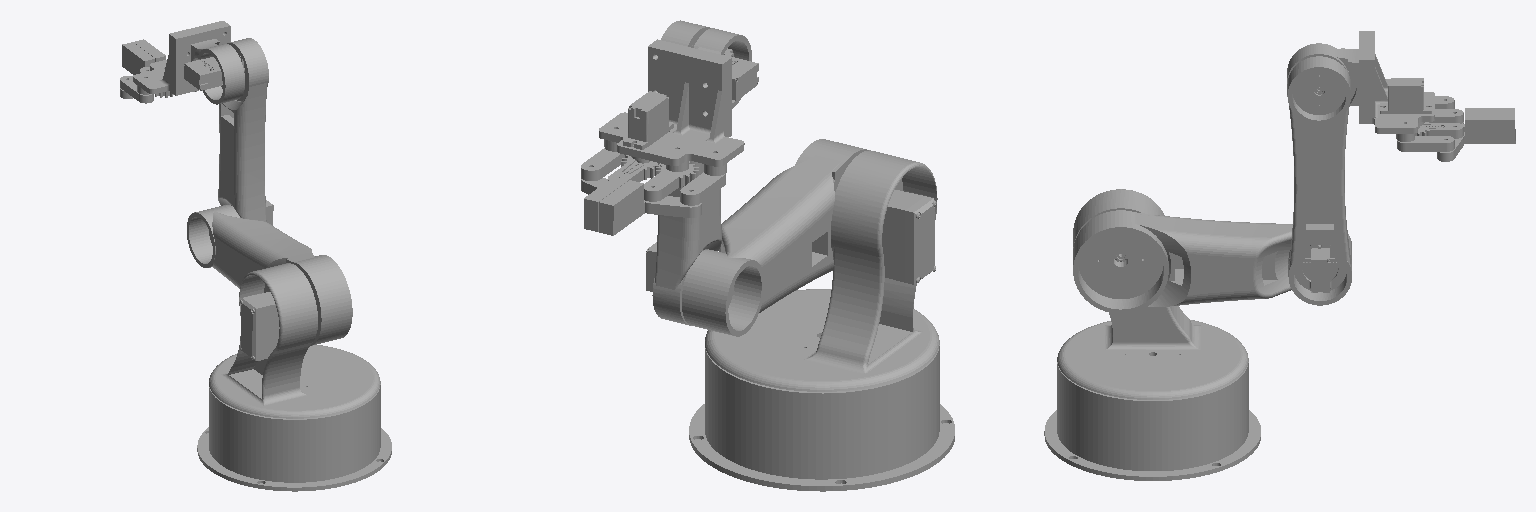
URDF robot description (Robot_Arm):
<?xml version='1.0' encoding='utf-8'?>
<robot name="Robot_Arm">
  <material name="silver">
    <color rgba="0.700 0.700 0.700 1.000" />
  </material>
  <link name="base_link">
    <inertial>
      <origin rpy="0 0 0" xyz="0.000619 0.000000 0.018717" />
      <mass value="1.114575279513355" />
      <inertia ixx="1.6127e-03" ixy="2.0748e-12" ixz="-1.0808e-05" iyy="2.0397e-03" iyz="1.2818e-12" izz="3.0906e-03" />
    </inertial>
    <visual>
      <origin rpy="0 0 0" xyz="0 0 0" />
      <geometry>
        <mesh filename="package://robotic_arm_pjbl_description/meshes/base_link.stl" scale="0.001 0.001 0.001" />
      </geometry>
      <material name="silver" />
    </visual>
    <collision>
      <origin rpy="0 0 0" xyz="0 0 0" />
      <geometry>
        <mesh filename="package://robotic_arm_pjbl_description/meshes/base_link.stl" scale="0.001 0.001 0.001" />
      </geometry>
    </collision>
  </link>
  <link name="mg996R_v2_v7_1">
    <inertial>
      <origin rpy="0 0 0" xyz="-0.024374 -0.005000 -0.008802" />
      <mass value="0.24550059914585104" />
      <inertia ixx="3.7764e-05" ixy="-3.7463e-10" ixz="-5.9967e-07" iyy="6.3908e-05" iyz="1.5918e-10" izz="4.2364e-05" />
    </inertial>
    <visual>
      <origin rpy="0 0 0" xyz="-0.0145 -0.005 -0.035" />
      <geometry>
        <mesh filename="package://robotic_arm_pjbl_description/meshes/mg996R_v2_v7_1.stl" scale="0.001 0.001 0.001" />
      </geometry>
      <material name="silver" />
    </visual>
    <collision>
      <origin rpy="0 0 0" xyz="-0.0145 -0.005 -0.035" />
      <geometry>
        <mesh filename="package://robotic_arm_pjbl_description/meshes/mg996R_v2_v7_1.stl" scale="0.001 0.001 0.001" />
      </geometry>
    </collision>
  </link>
  <link name="mg996_arm_2pad_v1__1__1">
    <inertial>
      <origin rpy="0 0 0" xyz="0.000000 0.000006 0.000273" />
      <mass value="0.006005329915614658" />
      <inertia ixx="5.5260e-07" ixy="1.9079e-15" ixz="6.4677e-16" iyy="4.5595e-08" iyz="1.4501e-15" izz="5.7984e-07" />
    </inertial>
    <visual>
      <origin rpy="0 0 0" xyz="-0.0 -0.0 -0.0505" />
      <geometry>
        <mesh filename="package://robotic_arm_pjbl_description/meshes/mg996_arm_2pad_v1__1__1.stl" scale="0.001 0.001 0.001" />
      </geometry>
      <material name="silver" />
    </visual>
    <collision>
      <origin rpy="0 0 0" xyz="-0.0 -0.0 -0.0505" />
      <geometry>
        <mesh filename="package://robotic_arm_pjbl_description/meshes/mg996_arm_2pad_v1__1__1.stl" scale="0.001 0.001 0.001" />
      </geometry>
    </collision>
  </link>
  <link name="Tutup__Base_v11_1">
    <inertial>
      <origin rpy="0 0 0" xyz="-0.009973 -0.007147 0.027090" />
      <mass value="0.7070663239380128" />
      <inertia ixx="1.1866e-03" ixy="-4.0674e-05" ixz="1.4969e-04" iyy="1.1033e-03" iyz="1.9334e-04" izz="8.0066e-04" />
    </inertial>
    <visual>
      <origin rpy="0 0 0" xyz="-0.0 -6e-06 -0.0532" />
      <geometry>
        <mesh filename="package://robotic_arm_pjbl_description/meshes/Tutup__Base_v11_1.stl" scale="0.001 0.001 0.001" />
      </geometry>
      <material name="silver" />
    </visual>
    <collision>
      <origin rpy="0 0 0" xyz="-0.0 -6e-06 -0.0532" />
      <geometry>
        <mesh filename="package://robotic_arm_pjbl_description/meshes/Tutup__Base_v11_1.stl" scale="0.001 0.001 0.001" />
      </geometry>
    </collision>
  </link>
  <link name="mg996_arm_2pad_v1_1">
    <inertial>
      <origin rpy="0 0 0" xyz="-0.000221 0.000163 0.000000" />
      <mass value="0.006005329915614658" />
      <inertia ixx="5.7984e-07" ixy="-1.4192e-15" ixz="-2.1369e-15" iyy="4.5609e-08" iyz="-2.6547e-09" izz="5.5259e-07" />
    </inertial>
    <visual>
      <origin rpy="0 0 0" xyz="0.006406 0.020205 -0.122346" />
      <geometry>
        <mesh filename="package://robotic_arm_pjbl_description/meshes/mg996_arm_2pad_v1_1.stl" scale="0.001 0.001 0.001" />
      </geometry>
      <material name="silver" />
    </visual>
    <collision>
      <origin rpy="0 0 0" xyz="0.006406 0.020205 -0.122346" />
      <geometry>
        <mesh filename="package://robotic_arm_pjbl_description/meshes/mg996_arm_2pad_v1_1.stl" scale="0.001 0.001 0.001" />
      </geometry>
    </collision>
  </link>
  <link name="Link_2_v15_1">
    <inertial>
      <origin rpy="0 0 0" xyz="0.005973 0.057708 0.000453" />
      <mass value="1.1593082559359793" />
      <inertia ixx="2.0213e-03" ixy="3.6090e-05" ixz="6.7725e-07" iyy="3.4611e-04" iyz="-5.9692e-06" izz="1.8724e-03" />
    </inertial>
    <visual>
      <origin rpy="0 0 0" xyz="0.003707 0.020139 -0.122346" />
      <geometry>
        <mesh filename="package://robotic_arm_pjbl_description/meshes/Link_2_v15_1.stl" scale="0.001 0.001 0.001" />
      </geometry>
      <material name="silver" />
    </visual>
    <collision>
      <origin rpy="0 0 0" xyz="0.003707 0.020139 -0.122346" />
      <geometry>
        <mesh filename="package://robotic_arm_pjbl_description/meshes/Link_2_v15_1.stl" scale="0.001 0.001 0.001" />
      </geometry>
    </collision>
  </link>
  <link name="MG90S_Servo_Horn__2_spork__v1_1">
    <inertial>
      <origin rpy="0 0 0" xyz="0.003641 0.020481 -0.068052" />
      <mass value="0.0023293743845412967" />
      <inertia ixx="1.4281e-07" ixy="3.7628e-15" ixz="-1.8397e-15" iyy="8.2114e-09" iyz="-6.8679e-10" izz="1.3937e-07" />
    </inertial>
    <visual>
      <origin rpy="0 0 0" xyz="-0.002729 -0.084475 -0.191053" />
      <geometry>
        <mesh filename="package://robotic_arm_pjbl_description/meshes/MG90S_Servo_Horn__2_spork__v1_1.stl" scale="0.001 0.001 0.001" />
      </geometry>
      <material name="silver" />
    </visual>
    <collision>
      <origin rpy="0 0 0" xyz="-0.002729 -0.084475 -0.191053" />
      <geometry>
        <mesh filename="package://robotic_arm_pjbl_description/meshes/MG90S_Servo_Horn__2_spork__v1_1.stl" scale="0.001 0.001 0.001" />
      </geometry>
    </collision>
  </link>
  <link name="MG90S_Servo_Horn__2_spork__v1__1__1">
    <inertial>
      <origin rpy="0 0 0" xyz="0.004089 -0.098038 0.098446" />
      <mass value="0.0023293743845412967" />
      <inertia ixx="1.4281e-07" ixy="7.8980e-16" ixz="1.1864e-15" iyy="1.3937e-07" iyz="6.8679e-10" izz="8.2114e-09" />
    </inertial>
    <visual>
      <origin rpy="0 0 0" xyz="-0.012981 -0.202346 -0.149323" />
      <geometry>
        <mesh filename="package://robotic_arm_pjbl_description/meshes/MG90S_Servo_Horn__2_spork__v1__1__1.stl" scale="0.001 0.001 0.001" />
      </geometry>
      <material name="silver" />
    </visual>
    <collision>
      <origin rpy="0 0 0" xyz="-0.012981 -0.202346 -0.149323" />
      <geometry>
        <mesh filename="package://robotic_arm_pjbl_description/meshes/MG90S_Servo_Horn__2_spork__v1__1__1.stl" scale="0.001 0.001 0.001" />
      </geometry>
    </collision>
  </link>
  <link name="Gripper_Paralel_SG90_M5_v5_1">
    <inertial>
      <origin rpy="0 0 0" xyz="0.029393 -0.083535 0.069537" />
      <mass value="0.18310530252689874" />
      <inertia ixx="5.7390e-05" ixy="-3.7889e-06" ixz="-5.3392e-07" iyy="7.5492e-05" iyz="1.5480e-05" izz="7.4260e-05" />
    </inertial>
    <visual>
      <origin rpy="0 0 0" xyz="0.027008 -0.232391 -0.168029" />
      <geometry>
        <mesh filename="package://robotic_arm_pjbl_description/meshes/Gripper_Paralel_SG90_M5_v5_1.stl" scale="0.001 0.001 0.001" />
      </geometry>
      <material name="silver" />
    </visual>
    <collision>
      <origin rpy="0 0 0" xyz="0.027008 -0.232391 -0.168029" />
      <geometry>
        <mesh filename="package://robotic_arm_pjbl_description/meshes/Gripper_Paralel_SG90_M5_v5_1.stl" scale="0.001 0.001 0.001" />
      </geometry>
    </collision>
  </link>
  <link name="link_3_v8_1">
    <inertial>
      <origin rpy="0 0 0" xyz="-0.000346 0.027380 -0.007778" />
      <mass value="0.5013830172546899" />
      <inertia ixx="8.1084e-04" ixy="-3.0076e-08" ixz="-8.6448e-06" iyy="7.6865e-04" iyz="3.5065e-06" izz="7.9942e-05" />
    </inertial>
    <visual>
      <origin rpy="0 0 0" xyz="-0.018357 -0.077013 -0.19383" />
      <geometry>
        <mesh filename="package://robotic_arm_pjbl_description/meshes/link_3_v8_1.stl" scale="0.001 0.001 0.001" />
      </geometry>
      <material name="silver" />
    </visual>
    <collision>
      <origin rpy="0 0 0" xyz="-0.018357 -0.077013 -0.19383" />
      <geometry>
        <mesh filename="package://robotic_arm_pjbl_description/meshes/link_3_v8_1.stl" scale="0.001 0.001 0.001" />
      </geometry>
    </collision>
  </link>
  <link name="Mounting_Gripper_v10_1">
    <inertial>
      <origin rpy="0 0 0" xyz="0.005278 -0.074495 0.097622" />
      <mass value="0.1387810088485666" />
      <inertia ixx="5.3073e-05" ixy="1.1204e-06" ixz="6.6532e-08" iyy="3.2264e-05" iyz="-3.8630e-08" izz="4.3861e-05" />
    </inertial>
    <visual>
      <origin rpy="0 0 0" xyz="0.004351 -0.19365 -0.150243" />
      <geometry>
        <mesh filename="package://robotic_arm_pjbl_description/meshes/Mounting_Gripper_v10_1.stl" scale="0.001 0.001 0.001" />
      </geometry>
      <material name="silver" />
    </visual>
    <collision>
      <origin rpy="0 0 0" xyz="0.004351 -0.19365 -0.150243" />
      <geometry>
        <mesh filename="package://robotic_arm_pjbl_description/meshes/Mounting_Gripper_v10_1.stl" scale="0.001 0.001 0.001" />
      </geometry>
    </collision>
  </link>
  <link name="MG90S_v5_1">
    <inertial>
      <origin rpy="0 0 0" xyz="0.017835 -0.000089 0.004771" />
      <mass value="0.022767916386716793" />
      <inertia ixx="1.8048e-06" ixy="1.9830e-09" ixz="-2.2121e-07" iyy="3.1547e-06" iyz="-2.8523e-11" izz="2.1095e-06" />
    </inertial>
    <visual>
      <origin rpy="0 0 0" xyz="-0.007150 -0.105000 -0.123000" />
      <geometry>
        <mesh filename="package://robotic_arm_pjbl_description/meshes/MG90S_v5_1.stl" scale="0.001 0.001 0.001" />
      </geometry>
      <material name="silver" />
    </visual>
    <collision>
      <origin rpy="0 0 0" xyz="-0.007150 -0.105000 -0.123000" />
      <geometry>
        <mesh filename="package://robotic_arm_pjbl_description/meshes/MG90S_v5_1.stl" scale="0.001 0.001 0.001" />
      </geometry>
    </collision>
  </link>
  <link name="MG90S_v1_1">
    <inertial>
      <origin rpy="0 0 0" xyz="-0.020595 0.004779 -0.000026" />
      <mass value="0.02276801022285205" />
      <inertia ixx="1.8049e-06" ixy="2.2122e-07" ixz="3.3356e-10" iyy="2.1096e-06" iyz="-1.0973e-08" izz="3.1546e-06" />
    </inertial>
    <visual>
      <origin rpy="0 0 0" xyz="-0.016250 -0.104300 -0.247800" />
      <geometry>
        <mesh filename="package://robotic_arm_pjbl_description/meshes/MG90S_v1_1.stl" scale="0.001 0.001 0.001" />
      </geometry>
      <material name="silver" />
    </visual>
    <collision>
      <origin rpy="0 0 0" xyz="-0.016250 -0.104300 -0.247800" />
      <geometry>
        <mesh filename="package://robotic_arm_pjbl_description/meshes/MG90S_v1_1.stl" scale="0.001 0.001 0.001" />
      </geometry>
    </collision>
  </link>
  <link name="mg996R_v2_v7__1__1">
    <inertial>
      <origin rpy="0 0 0" xyz="-0.011579 -0.004386 -0.024399" />
      <mass value="0.24550059914585104" />
      <inertia ixx="4.2364e-05" ixy="2.9807e-09" ixz="-5.9966e-07" iyy="6.3907e-05" iyz="1.3726e-07" izz="3.7765e-05" />
    </inertial>
    <visual>
      <origin rpy="0 0 0" xyz="0.019623 0.015604 -0.136878" />
      <geometry>
        <mesh filename="package://robotic_arm_pjbl_description/meshes/mg996R_v2_v7__1__1.stl" scale="0.001 0.001 0.001" />
      </geometry>
      <material name="silver" />
    </visual>
    <collision>
      <origin rpy="0 0 0" xyz="0.019623 0.015604 -0.136878" />
      <geometry>
        <mesh filename="package://robotic_arm_pjbl_description/meshes/mg996R_v2_v7__1__1.stl" scale="0.001 0.001 0.001" />
      </geometry>
    </collision>
  </link>
  <link name="gripper_gear_a_1">
    <inertial>
      <origin rpy="0 0 0" xyz="0.000022 0.008095 -0.001013" />
      <mass value="0.023262242930303698" />
      <inertia ixx="2.8852e-06" ixy="-9.5985e-09" ixz="4.2138e-11" iyy="5.2168e-07" iyz="1.3670e-08" izz="3.2490e-06" />
    </inertial>
    <visual>
      <origin rpy="0 0 0" xyz="-0.010800 -0.164110 -0.216730" />
      <geometry>
        <mesh filename="package://robotic_arm_pjbl_description/meshes/gripper_gear_a_1.stl" scale="0.001 0.001 0.001" />
      </geometry>
      <material name="silver" />
    </visual>
    <collision>
      <origin rpy="0 0 0" xyz="-0.010800 -0.164110 -0.216730" />
      <geometry>
        <mesh filename="package://robotic_arm_pjbl_description/meshes/gripper_gear_a_1.stl" scale="0.001 0.001 0.001" />
      </geometry>
    </collision>
  </link>
  <link name="gripper_gear_b_1">
    <inertial>
      <origin rpy="0 0 0" xyz="-0.000044 0.008349 -0.001099" />
      <mass value="0.02378380547257021" />
      <inertia ixx="2.9072e-06" ixy="9.9205e-09" ixz="5.1941e-11" iyy="5.2436e-07" iyz="-1.4474e-08" izz="3.2887e-06" />
    </inertial>
    <visual>
      <origin rpy="0 0 0" xyz="0.009400 -0.164110 -0.216730" />
      <geometry>
        <mesh filename="package://robotic_arm_pjbl_description/meshes/gripper_gear_b_1.stl" scale="0.001 0.001 0.001" />
      </geometry>
      <material name="silver" />
    </visual>
    <collision>
      <origin rpy="0 0 0" xyz="0.009400 -0.164110 -0.216730" />
      <geometry>
        <mesh filename="package://robotic_arm_pjbl_description/meshes/gripper_gear_b_1.stl" scale="0.001 0.001 0.001" />
      </geometry>
    </collision>
  </link>
  <link name="gripper_link_left_1">
    <inertial>
      <origin rpy="0 0 0" xyz="-0.000001 0.012772 -0.001396" />
      <mass value="0.016717941483359883" />
      <inertia ixx="1.6063e-06" ixy="-5.7333e-09" ixz="-3.0020e-11" iyy="2.1413e-07" iyz="-7.8850e-09" izz="1.7200e-06" />
    </inertial>
    <visual>
      <origin rpy="0 0 0" xyz="-0.030030 -0.158480 -0.217020" />
      <geometry>
        <mesh filename="package://robotic_arm_pjbl_description/meshes/gripper_link_left_1.stl" scale="0.001 0.001 0.001" />
      </geometry>
      <material name="silver" />
    </visual>
    <collision>
      <origin rpy="0 0 0" xyz="-0.030030 -0.158480 -0.217020" />
      <geometry>
        <mesh filename="package://robotic_arm_pjbl_description/meshes/gripper_link_left_1.stl" scale="0.001 0.001 0.001" />
      </geometry>
    </collision>
  </link>
  <link name="gripper_link_right_1">
    <inertial>
      <origin rpy="0 0 0" xyz="0.000001 0.012782 -0.001396" />
      <mass value="0.016717941483359845" />
      <inertia ixx="1.6063e-06" ixy="5.7334e-09" ixz="3.0035e-11" iyy="2.1413e-07" iyz="-7.8850e-09" izz="1.7200e-06" />
    </inertial>
    <visual>
      <origin rpy="0 0 0" xyz="0.028630 -0.158470 -0.217020" />
      <geometry>
        <mesh filename="package://robotic_arm_pjbl_description/meshes/gripper_link_right_1.stl" scale="0.001 0.001 0.001" />
      </geometry>
      <material name="silver" />
    </visual>
    <collision>
      <origin rpy="0 0 0" xyz="0.028630 -0.158470 -0.217020" />
      <geometry>
        <mesh filename="package://robotic_arm_pjbl_description/meshes/gripper_link_right_1.stl" scale="0.001 0.001 0.001" />
      </geometry>
    </collision>
  </link>
  <link name="gripper_finger_left_1">
    <inertial>
      <origin rpy="0 0 0" xyz="-0.001489 0.014975 -0.001265" />
      <mass value="0.051741877862863876" />
      <inertia ixx="1.1089e-05" ixy="4.0169e-06" ixz="8.5147e-07" iyy="4.7434e-06" iyz="-1.5048e-06" izz="1.3300e-05" />
    </inertial>
    <visual>
      <origin rpy="0 0 0" xyz="-0.010800 -0.189280 -0.213950" />
      <geometry>
        <mesh filename="package://robotic_arm_pjbl_description/meshes/gripper_finger_left_1.stl" scale="0.001 0.001 0.001" />
      </geometry>
      <material name="silver" />
    </visual>
    <collision>
      <origin rpy="0 0 0" xyz="-0.010800 -0.189280 -0.213950" />
      <geometry>
        <mesh filename="package://robotic_arm_pjbl_description/meshes/gripper_finger_left_1.stl" scale="0.001 0.001 0.001" />
      </geometry>
    </collision>
  </link>
  <link name="gripper_finger_right_1">
    <inertial>
      <origin rpy="0 0 0" xyz="0.001489 0.014975 -0.001255" />
      <mass value="0.05174187786286397" />
      <inertia ixx="1.1089e-05" ixy="-4.0169e-06" ixz="-8.5147e-07" iyy="4.7434e-06" iyz="-1.5048e-06" izz="1.3300e-05" />
    </inertial>
    <visual>
      <origin rpy="0 0 0" xyz="0.009400 -0.189280 -0.213940" />
      <geometry>
        <mesh filename="package://robotic_arm_pjbl_description/meshes/gripper_finger_right_1.stl" scale="0.001 0.001 0.001" />
      </geometry>
      <material name="silver" />
    </visual>
    <collision>
      <origin rpy="0 0 0" xyz="0.009400 -0.189280 -0.213940" />
      <geometry>
        <mesh filename="package://robotic_arm_pjbl_description/meshes/gripper_finger_right_1.stl" scale="0.001 0.001 0.001" />
      </geometry>
    </collision>
  </link>
  <joint name="base_to_servo1" type="fixed">
    <origin rpy="0 0 0" xyz="0.014500 0.005000 0.035000" />
    <parent link="base_link" />
    <child link="mg996R_v2_v7_1" />
  </joint>
  <joint name="base" type="revolute">
    <origin rpy="0 0 0" xyz="-0.014500 -0.005000 0.015500" />
    <parent link="mg996R_v2_v7_1" />
    <child link="mg996_arm_2pad_v1__1__1" />
    <axis xyz="0.0 0.0 1.0" />
    <limit effort="100" lower="0.0" upper="3.141593" velocity="100" />
  </joint>
  <joint name="arm1_to_tutup" type="fixed">
    <origin rpy="0 0 0" xyz="0.000000 0.000006 0.002700" />
    <parent link="mg996_arm_2pad_v1__1__1" />
    <child link="Tutup__Base_v11_1" />
  </joint>
  <joint name="shoulder" type="revolute">
    <origin rpy="0 0 0" xyz="0.013217 -0.004601 -0.014532" />
    <parent link="mg996R_v2_v7__1__1" />
    <child link="mg996_arm_2pad_v1_1" />
    <axis xyz="0.999699 0.024528 0.0" />
    <limit effort="100" lower="0.0" upper="3.141593" velocity="100" />
  </joint>
  <joint name="arm2_to_link2" type="fixed">
    <origin rpy="0 0 0" xyz="0.002699 0.000066 0.000000" />
    <parent link="mg996_arm_2pad_v1_1" />
    <child link="Link_2_v15_1" />
  </joint>
  <joint name="link2_to_horn1" type="fixed">
    <origin rpy="0 0 0" xyz="0.006436 0.104614 0.068707" />
    <parent link="Link_2_v15_1" />
    <child link="MG90S_Servo_Horn__2_spork__v1_1" />
  </joint>
  <joint name="link3_to_horn2" type="fixed">
    <origin rpy="0 0 0" xyz="-0.005376 0.125333 -0.044507" />
    <parent link="link_3_v8_1" />
    <child link="MG90S_Servo_Horn__2_spork__v1__1__1" />
  </joint>
  <joint name="mounting_to_gripper" type="fixed">
    <origin rpy="0 0 0" xyz="-0.022657 0.038741 0.017786" />
    <parent link="Mounting_Gripper_v10_1" />
    <child link="Gripper_Paralel_SG90_M5_v5_1" />
  </joint>
  <joint name="servo3_to_link3" type="fixed">
    <origin rpy="0 0 0" xyz="0.011207 -0.027987 0.070830" />
    <parent link="MG90S_v5_1" />
    <child link="link_3_v8_1" />
  </joint>
  <joint name="servo4_to_mounting" type="fixed">
    <origin rpy="0 0 0" xyz="-0.020601 0.089350 -0.097557" />
    <parent link="MG90S_v1_1" />
    <child link="Mounting_Gripper_v10_1" />
  </joint>
  <joint name="elbow" type="revolute">
    <origin rpy="0 0 0" xyz="0.004421 0.020525 -0.068053" />
    <parent link="MG90S_Servo_Horn__2_spork__v1_1" />
    <child link="MG90S_v5_1" />
    <axis xyz="-0.999699 -0.024528 0.0" />
    <limit effort="100" lower="0.0" upper="3.141593" velocity="100" />
  </joint>
  <joint name="wrist" type="revolute">
    <origin rpy="0 0 0" xyz="0.003269 -0.098046 0.098477" />
    <parent link="MG90S_Servo_Horn__2_spork__v1__1__1" />
    <child link="MG90S_v1_1" />
    <axis xyz="0.999699 0.024528 -0.0" />
    <limit effort="100" lower="0.0" upper="3.141593" velocity="100" />
  </joint>
  <joint name="tutup_to_servo2" type="fixed">
    <origin rpy="0 0 0" xyz="-0.019623 -0.015610 0.083678" />
    <parent link="Tutup__Base_v11_1" />
    <child link="mg996R_v2_v7__1__1" />
  </joint>
  <joint name="gripper_servo" type="revolute">
    <origin rpy="0 0 0" xyz="0.037808 -0.068281 0.048701" />
    <parent link="Gripper_Paralel_SG90_M5_v5_1" />
    <child link="gripper_gear_a_1" />
    <axis xyz="0.002699 -0.110002 -0.993928" />
    <limit effort="100" lower="0.0" upper="0.573515" velocity="100" />
  </joint>
  <joint name="gripper_gear_b" type="revolute">
    <origin rpy="0 0 0" xyz="0.017608 -0.068281 0.048701" />
    <parent link="Gripper_Paralel_SG90_M5_v5_1" />
    <child link="gripper_gear_b_1" />
    <axis xyz="-0.002699 0.110002 0.993928" />
    <limit effort="100" lower="0.0" upper="0.573515" velocity="100" />
  <mimic joint="gripper_servo" multiplier="1.0" offset="0" /></joint>
  <joint name="gripper_link_left" type="revolute">
    <origin rpy="0 0 0" xyz="0.057038 -0.073911 0.048991" />
    <parent link="Gripper_Paralel_SG90_M5_v5_1" />
    <child link="gripper_link_left_1" />
    <axis xyz="-0.002699 0.110002 0.993928" />
    <limit effort="100" lower="-0.573515" upper="0.0" velocity="100" />
  <mimic joint="gripper_servo" multiplier="-1.0" offset="0" /></joint>
  <joint name="gripper_link_right" type="revolute">
    <origin rpy="0 0 0" xyz="-0.001622 -0.073921 0.048991" />
    <parent link="Gripper_Paralel_SG90_M5_v5_1" />
    <child link="gripper_link_right_1" />
    <axis xyz="-0.002699 0.110002 0.993928" />
    <limit effort="100" lower="0.0" upper="0.573515" velocity="100" />
  <mimic joint="gripper_servo" multiplier="1.0" offset="0" /></joint>
  <joint name="gripper_finger_left" type="revolute">
    <origin rpy="0 0 0" xyz="0.000000 0.025170 -0.002780" />
    <parent link="gripper_gear_a_1" />
    <child link="gripper_finger_left_1" />
    <axis xyz="-0.002699 0.110002 0.993928" />
    <limit effort="100" lower="0.0" upper="0.573515" velocity="100" />
  <mimic joint="gripper_servo" multiplier="1.0" offset="0" /></joint>
  <joint name="gripper_finger_right" type="revolute">
    <origin rpy="0 0 0" xyz="0.000000 0.025170 -0.002790" />
    <parent link="gripper_gear_b_1" />
    <child link="gripper_finger_right_1" />
    <axis xyz="-0.002699 0.110002 0.993928" />
    <limit effort="100" lower="-0.573515" upper="0.0" velocity="100" />
  <mimic joint="gripper_servo" multiplier="-1.0" offset="0" /></joint>
</robot>

--- Render facts (derived) ---
3 views of the same robot in one strip: view 1: azimuth 30°, elevation 25°; view 2: azimuth 150°, elevation 25°; view 3: azimuth 270°, elevation 25° (orthographic).
Model Robot_Arm with 20 links and 19 joints (10 revolute, 9 fixed), rooted at base_link, posed all joints at 0.
Visible links, largest first — view 1: Tutup__Base_v11_1, base_link, Link_2_v15_1, link_3_v8_1, Mounting_Gripper_v10_1, mg996R_v2_v7__1__1, Gripper_Paralel_SG90_M5_v5_1, MG90S_v1_1, gripper_finger_right_1; view 2: Tutup__Base_v11_1, base_link, Link_2_v15_1, Gripper_Paralel_SG90_M5_v5_1, link_3_v8_1, mg996R_v2_v7__1__1, gripper_finger_right_1, Mounting_Gripper_v10_1, gripper_gear_b_1, gripper_finger_left_1, gripper_link_right_1, MG90S_v1_1 (+2 smaller); view 3: Link_2_v15_1, base_link, Tutup__Base_v11_1, link_3_v8_1, Gripper_Paralel_SG90_M5_v5_1, Mounting_Gripper_v10_1, gripper_finger_left_1, MG90S_v5_1, gripper_link_left_1, gripper_gear_a_1.
Link boxes in pixels (box(x1,y1,x2,y2)): Tutup__Base_v11_1: box(209, 263, 380, 418); base_link: box(197, 384, 391, 491); Link_2_v15_1: box(187, 205, 352, 345); link_3_v8_1: box(218, 38, 268, 221); Mounting_Gripper_v10_1: box(173, 24, 244, 104); mg996R_v2_v7__1__1: box(240, 292, 279, 360); Gripper_Paralel_SG90_M5_v5_1: box(133, 21, 227, 94); MG90S_v1_1: box(184, 57, 222, 90); gripper_finger_right_1: box(120, 42, 154, 98); Tutup__Base_v11_1: box(705, 150, 939, 391); base_link: box(689, 345, 954, 491); Link_2_v15_1: box(682, 139, 868, 336); Gripper_Paralel_SG90_M5_v5_1: box(599, 42, 744, 175); link_3_v8_1: box(652, 20, 721, 325); mg996R_v2_v7__1__1: box(882, 190, 936, 284); gripper_finger_right_1: box(599, 180, 701, 235); Mounting_Gripper_v10_1: box(654, 28, 751, 136); gripper_gear_b_1: box(644, 161, 698, 201); gripper_finger_left_1: box(581, 176, 628, 231); gripper_link_right_1: box(680, 172, 725, 205); MG90S_v1_1: box(724, 52, 758, 100); Link_2_v15_1: box(1073, 210, 1351, 313); base_link: box(1044, 362, 1260, 480); Tutup__Base_v11_1: box(1057, 189, 1248, 399); link_3_v8_1: box(1287, 56, 1351, 305); Gripper_Paralel_SG90_M5_v5_1: box(1365, 31, 1434, 141); Mounting_Gripper_v10_1: box(1287, 31, 1364, 123); gripper_finger_left_1: box(1437, 114, 1515, 161); MG90S_v5_1: box(1311, 245, 1329, 292); gripper_link_left_1: box(1397, 136, 1454, 151); gripper_gear_a_1: box(1415, 122, 1463, 138).
Bounding box of the posed robot: 0.136 × 0.2953 × 0.27 m (x, y, z).
Meshes: 20 distinct files referenced, 20 mesh visuals loaded (20 binary STL).
